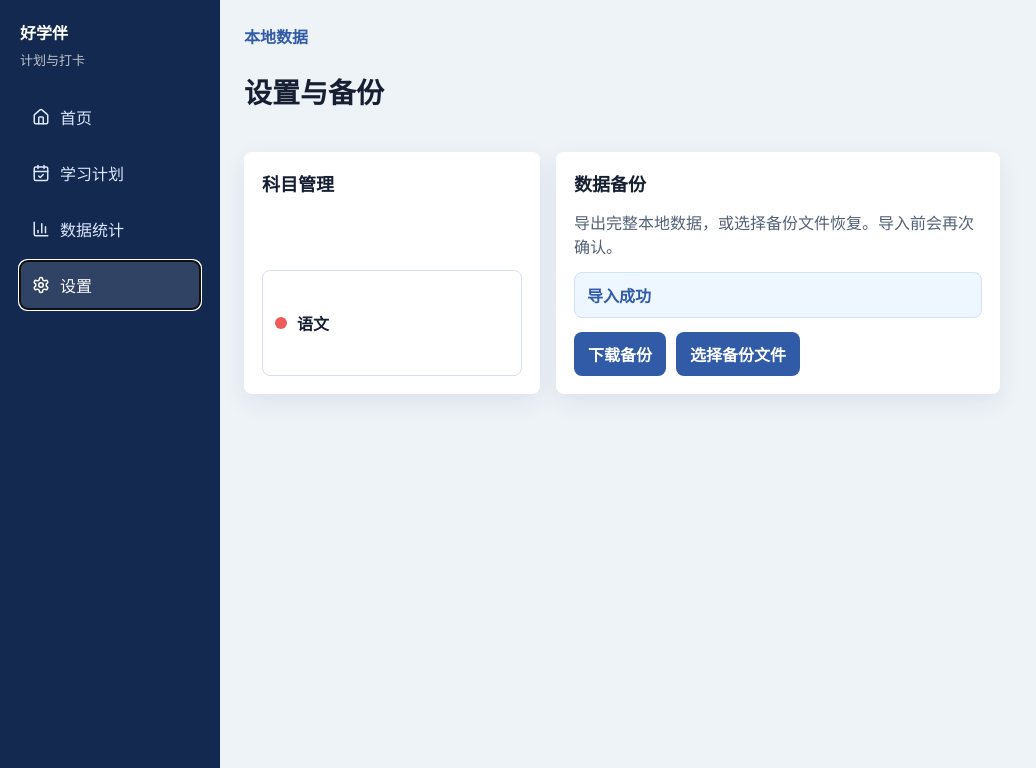
App › imports a selected backup after confirmation
Earlier steps of the test are not shown.
Expected: the text "导入成功" is shown, [574,272,982,318]
Click the button "学习计划" at {"x": 110, "y": 173}, box [20,149,200,197]
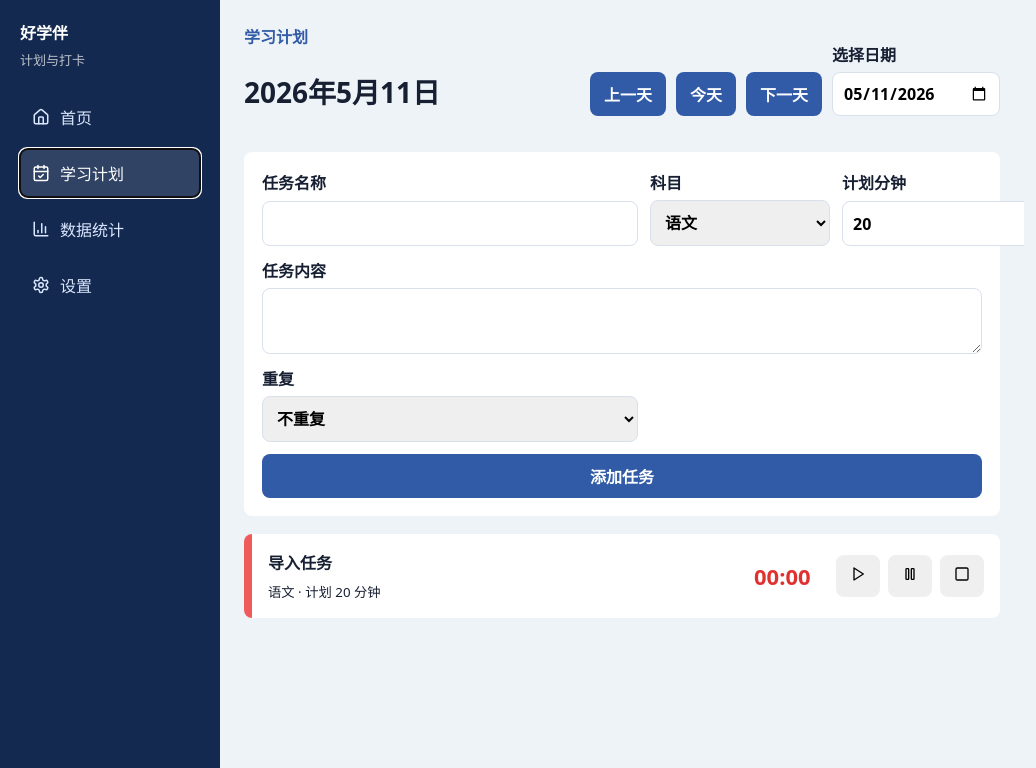
Result: the text "导入任务" is shown at [268,552,332,574]
